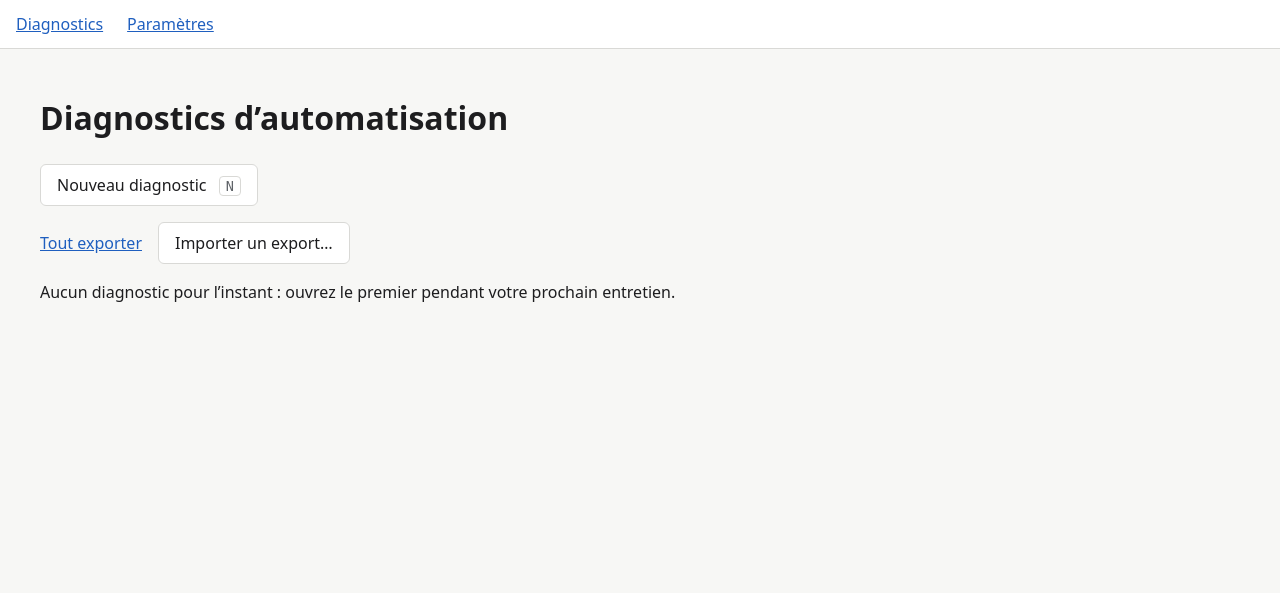
it: App › montre l’accueil par défaut, puis les paramètres
The image size is (1280, 593).
Expected: the heading "Diagnostics d’automatisation" is shown, [40,96,508,139]
Click the link "Paramètres": point(170, 24) [127,12,214,36]
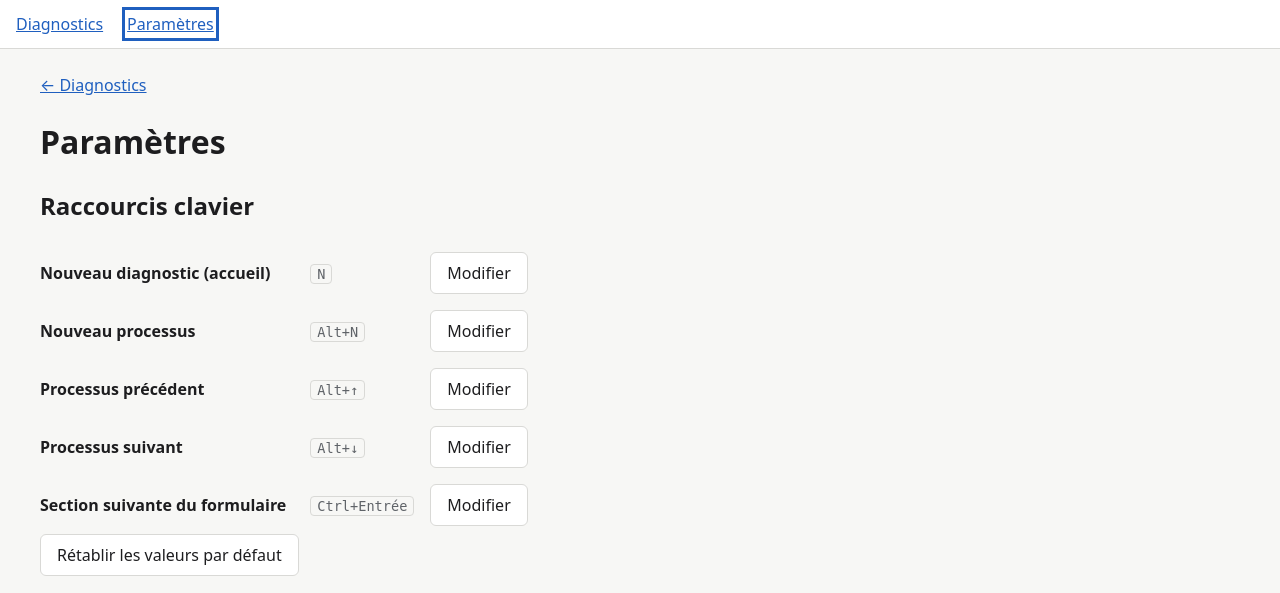
Result: the heading "Paramètres" is shown at [40,120,226,163]
